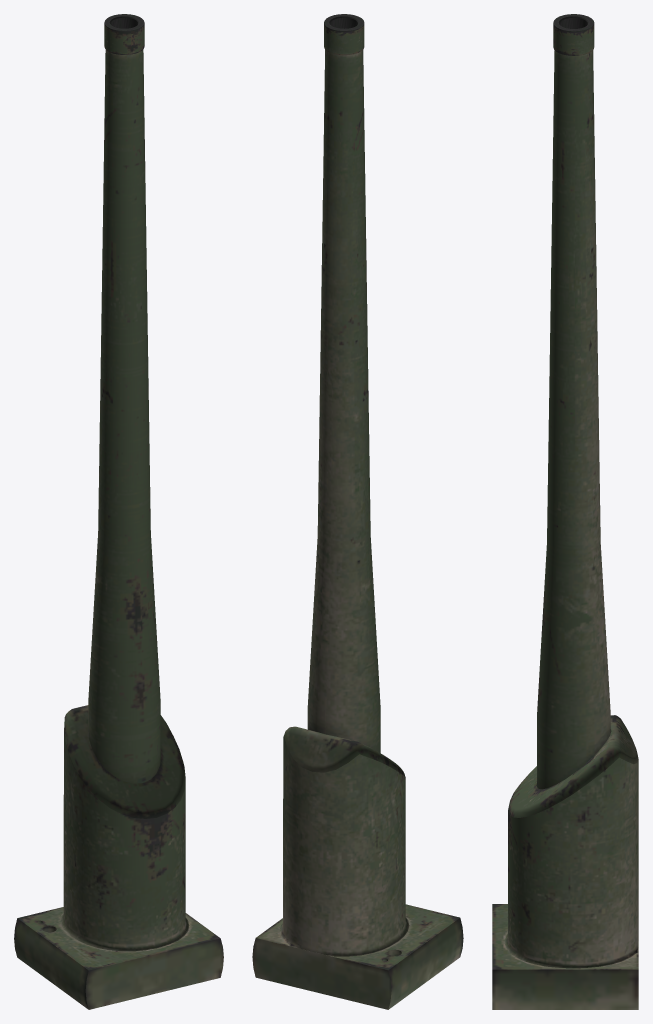
File: Gun_02.glb
3 views of the same model, side by side, from view 1: azimuth 30°, elevation 25°; view 2: azimuth 150°, elevation 25°; view 3: azimuth 270°, elevation 25° (orthographic). The views are drawn at different scales.
Visible parts, largest first — view 1: set_0_group_0; view 2: set_0_group_0; view 3: set_0_group_0.
Part boxes in pixels (bbox=[...]): set_0_group_0: bbox=[14, 14, 223, 1009]; set_0_group_0: bbox=[252, 14, 463, 1009]; set_0_group_0: bbox=[492, 14, 638, 1009].
Bounding box in the file's own units: 0.7204 × 4.68 × 0.6462.
Materials: 1 (1 with a texture image).
